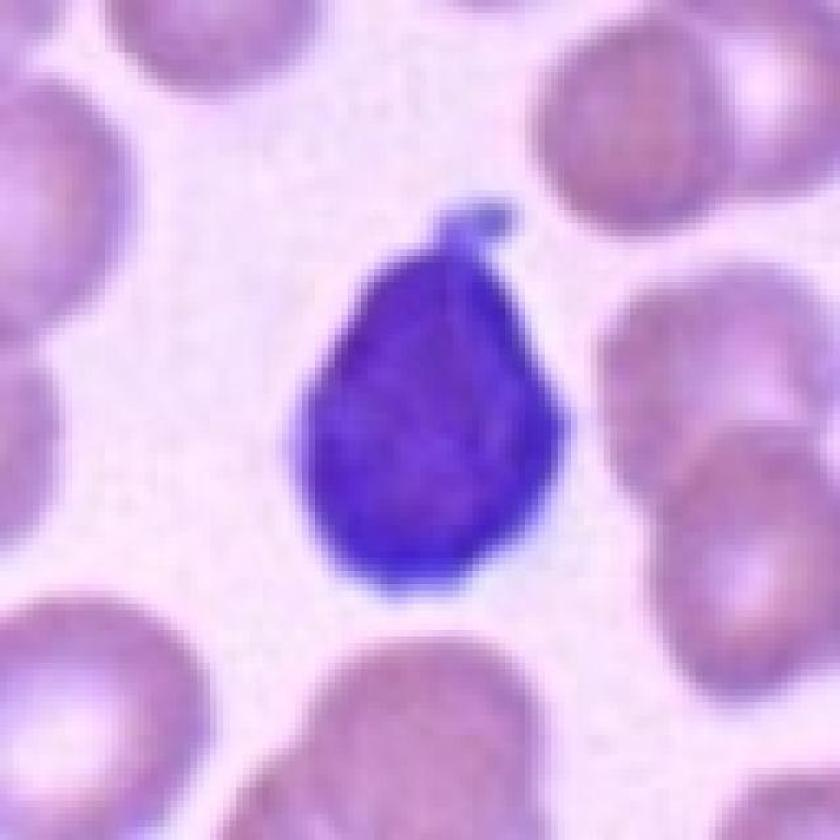lymphocyte: (274, 183, 578, 635)
